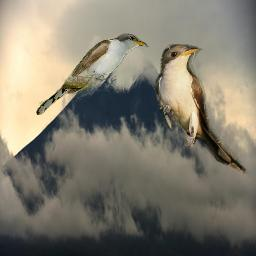Cuckoo: (155, 44, 248, 178), (34, 32, 150, 116)
